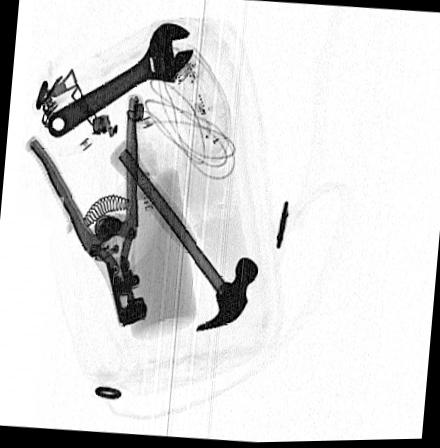Hammer: (106, 136, 257, 335)
Pliers: (21, 95, 145, 330)
Wrench: (47, 24, 192, 139)
